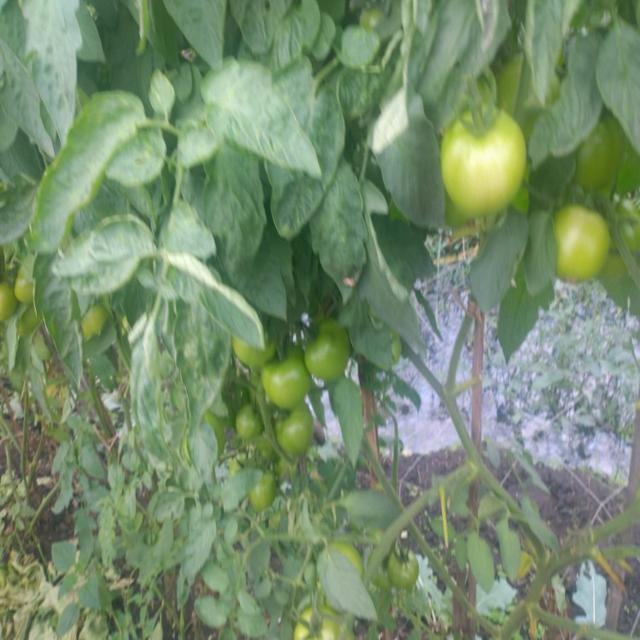tomato: (441, 105, 526, 219), (550, 207, 606, 282), (306, 324, 355, 390), (583, 134, 628, 199), (264, 358, 311, 411), (276, 413, 327, 459), (290, 603, 346, 640), (392, 548, 426, 593), (496, 56, 520, 102), (79, 307, 114, 336), (256, 477, 282, 516), (334, 546, 368, 575), (236, 337, 263, 371), (236, 406, 266, 434), (1, 281, 17, 325), (15, 279, 41, 306), (364, 6, 387, 31)
